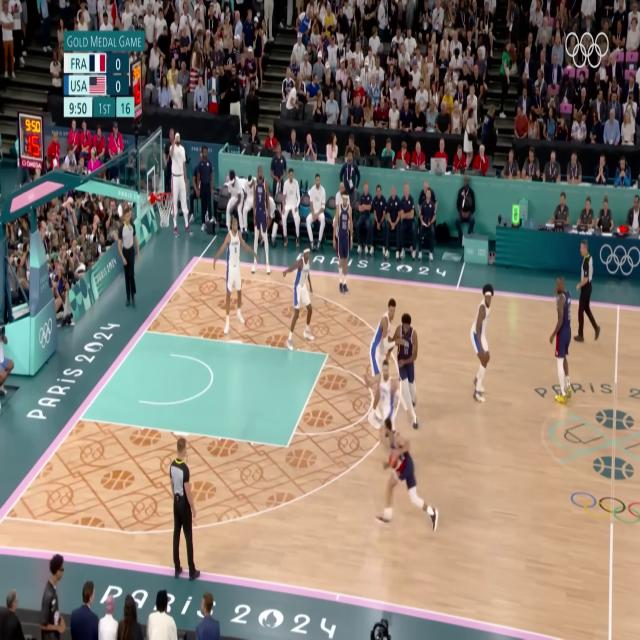ball-handler: (367, 419, 438, 531)
player: (210, 213, 256, 333), (467, 281, 499, 410), (544, 274, 574, 410), (391, 306, 423, 424), (282, 248, 316, 354), (367, 291, 392, 428), (332, 191, 354, 302), (250, 167, 272, 276), (372, 361, 392, 418)
